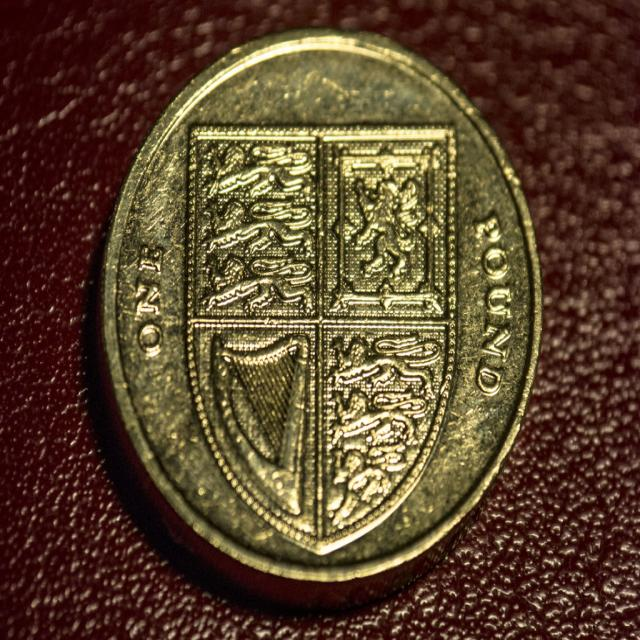Coin: (102, 26, 547, 607)
